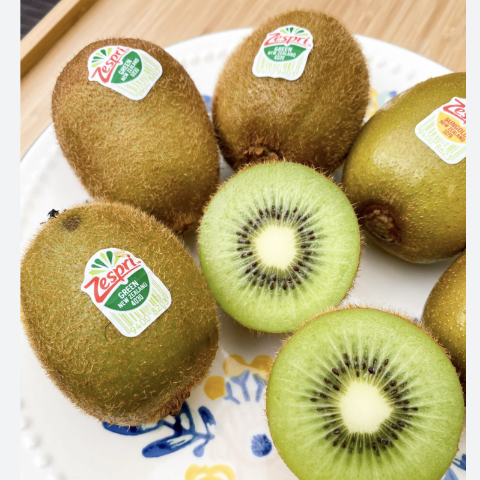kiwi: (10, 184, 243, 424), (52, 16, 217, 245), (202, 4, 386, 184)
